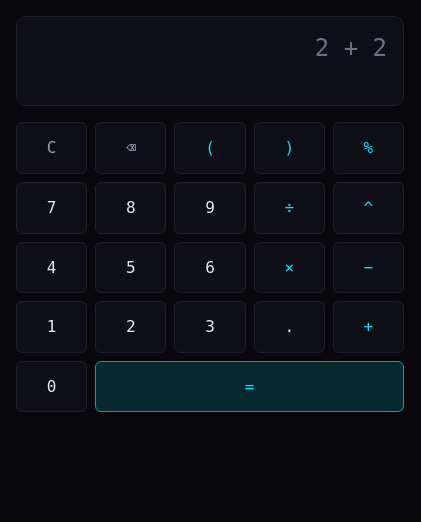
Test: Calculator › shows the newest calculation first
Type "1+1" into the field named "expression" at {"x": 210, "y": 48}, box [33,29,387,67]
Then press Enter
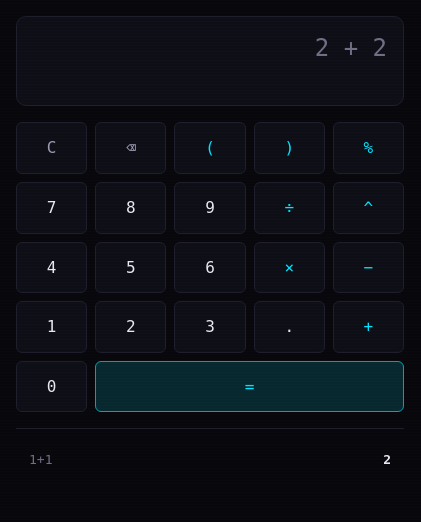
Type "2+2" into the field named "expression" at {"x": 210, "y": 48}, box [33,29,387,67]
Then press Enter
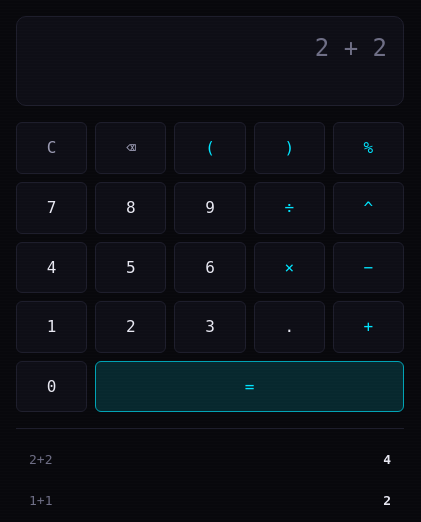
Now the list item "2+2 4" is shown, box [16,441,404,480]
